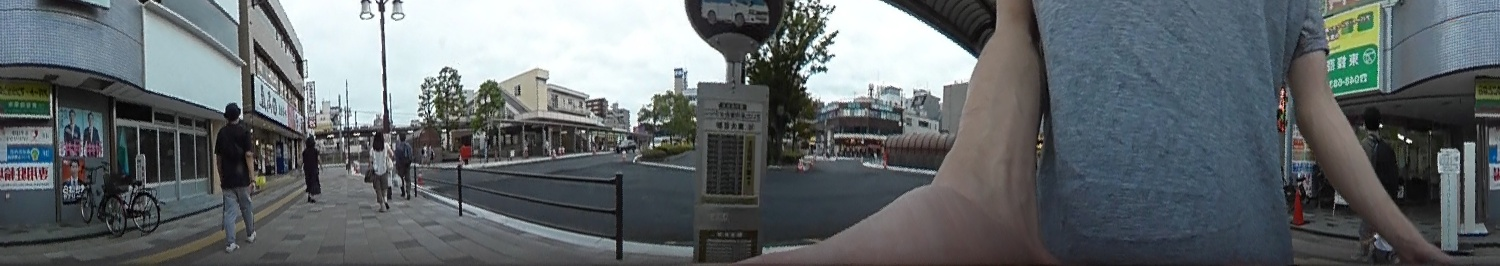person: (1353, 99, 1405, 265), (212, 101, 258, 248), (366, 128, 392, 210), (298, 133, 323, 204), (392, 129, 414, 199)
